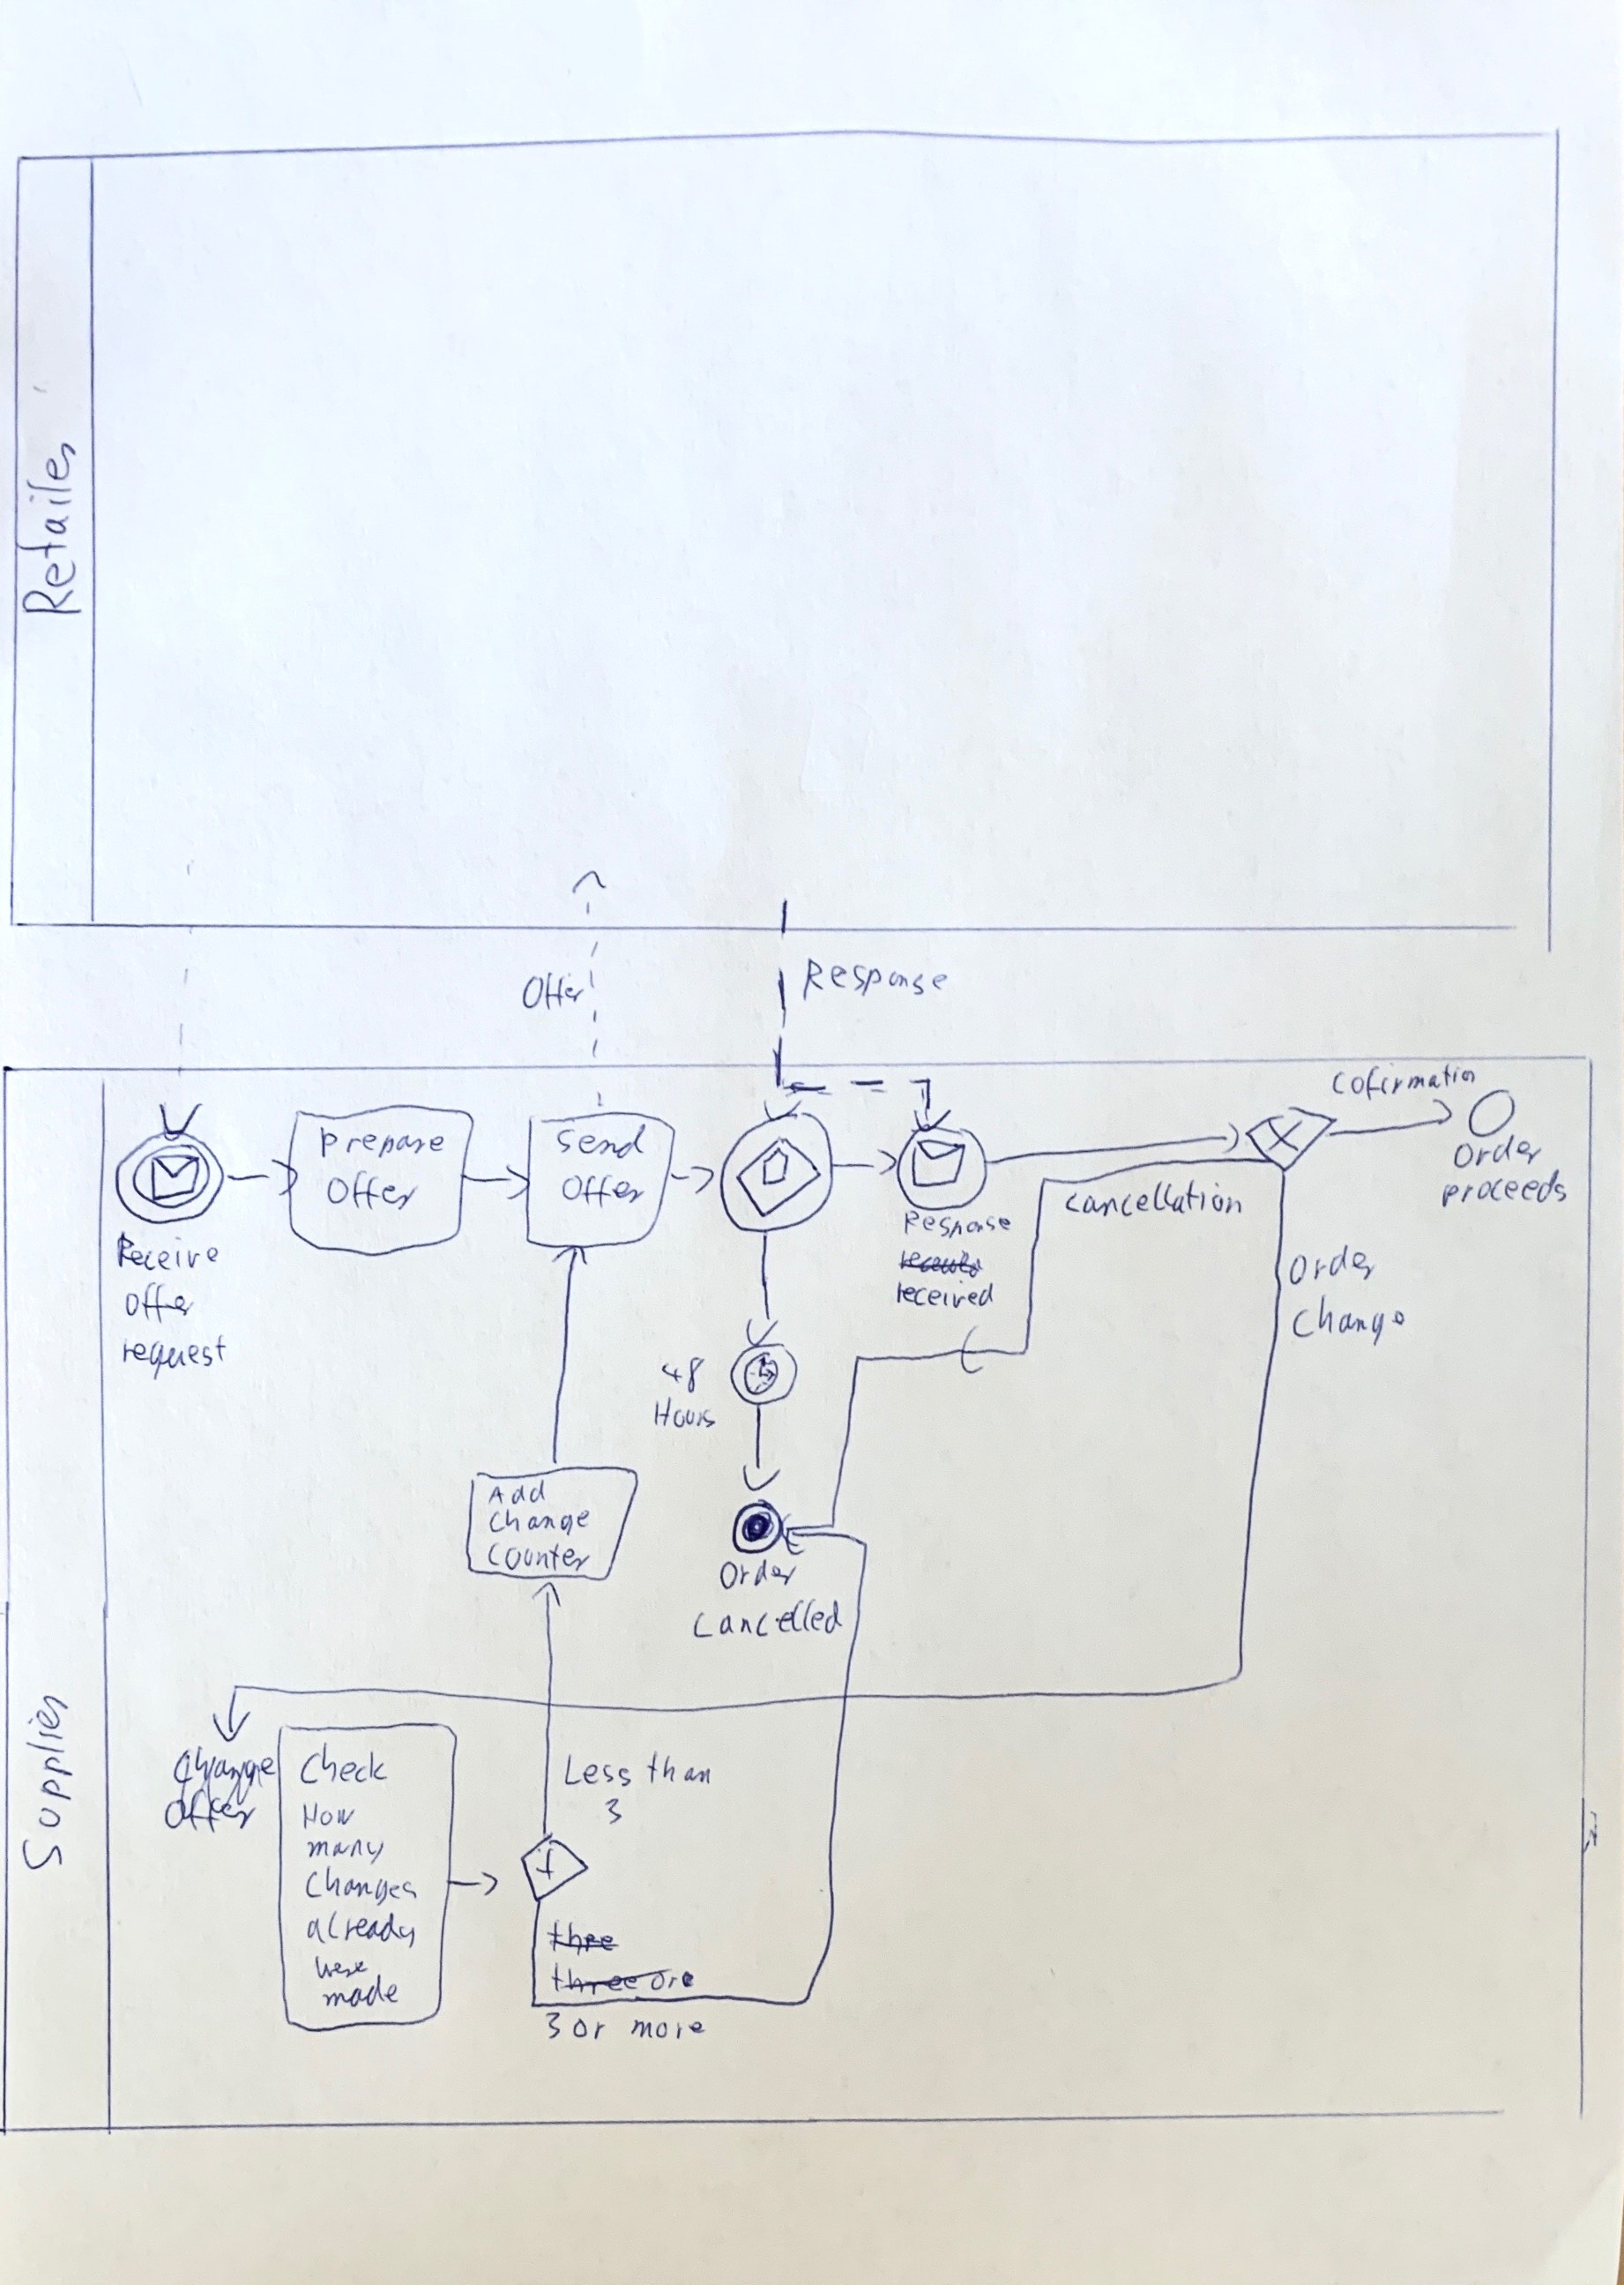3: (541, 2007, 562, 2044), (603, 1793, 624, 1826)
48: (654, 1346, 705, 1396)
Add: (489, 1480, 550, 1506)
Change: (487, 1506, 591, 1538)
HOW: (306, 1802, 357, 1830)
Hours: (656, 1397, 719, 1433)
Less: (559, 1752, 634, 1791)
Offer: (518, 967, 592, 1019), (562, 1171, 647, 1204)
Order: (722, 1559, 801, 1591)
Receive: (112, 1234, 223, 1273)
Response: (800, 958, 949, 1002), (903, 1209, 1014, 1239)
Retailer: (19, 427, 81, 622)
Supplier: (19, 1694, 72, 1867)
already: (306, 1912, 417, 1948)
cancellation: (1060, 1181, 1246, 1222)
cancelled: (689, 1599, 847, 1643)
change: (1290, 1301, 1406, 1343)
changes: (302, 1868, 424, 1907)
check: (301, 1747, 392, 1791)
cofirmation: (1330, 1058, 1478, 1106)
counter: (485, 1541, 592, 1575)
made: (320, 1979, 402, 2013)
many: (304, 1835, 388, 1865)
more: (636, 2013, 707, 2044)
offer: (327, 1169, 418, 1216), (120, 1285, 193, 1324)
or: (571, 2013, 608, 2044)
order: (1285, 1246, 1376, 1288), (1454, 1130, 1540, 1172)
prepare: (318, 1127, 446, 1162)
proceeds: (1441, 1172, 1570, 1211)
received: (893, 1281, 995, 1311)
request: (118, 1334, 230, 1373)
send: (552, 1123, 650, 1164)
than: (640, 1752, 714, 1791)
were: (309, 1951, 378, 1981)
